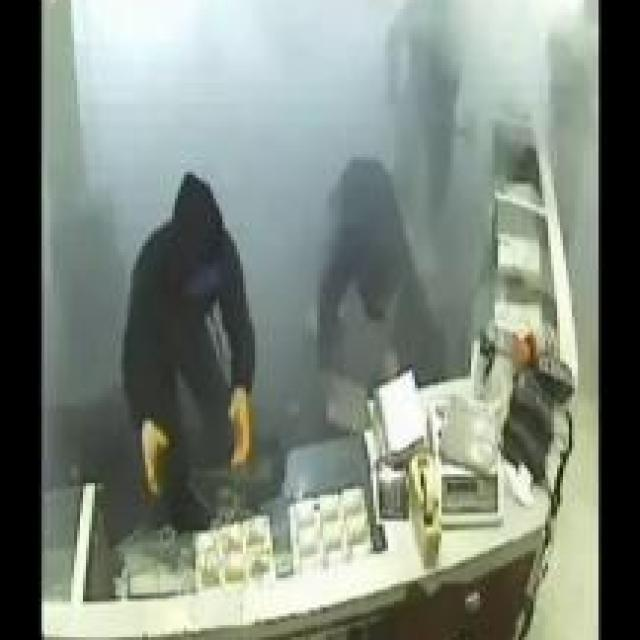fire: (74, 0, 341, 199), (371, 46, 504, 283)
